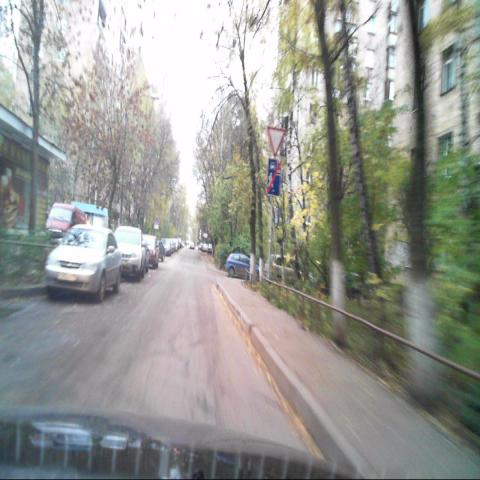5_22: (268, 159, 280, 195)
